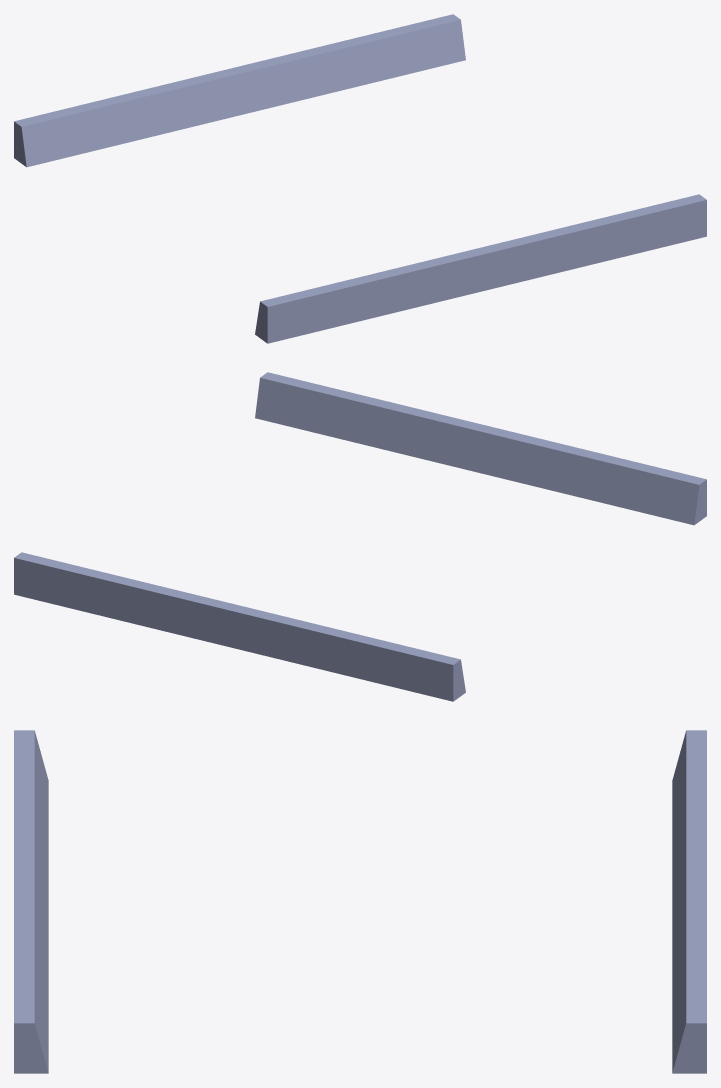
The model's file is road-straight-barrier.glb.
3 views of the same model, one above another, from view 1: azimuth 30°, elevation 25°; view 2: azimuth 150°, elevation 25°; view 3: azimuth 270°, elevation 25° (orthographic). The views are drawn at different scales.
Visible parts, largest first — view 1: road-straight-barrier; view 2: road-straight-barrier; view 3: road-straight-barrier.
Boxes of the visible parts, <box> form: road-straight-barrier: <box>14,14,706,343</box>; road-straight-barrier: <box>14,372,706,701</box>; road-straight-barrier: <box>14,730,706,1073</box>.
Bounding box in the file's own units: 1 × 0.08 × 1.
